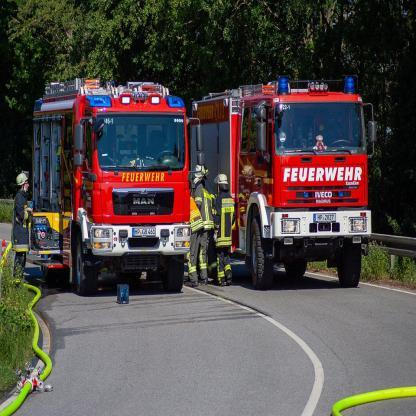fire-truck: (10, 58, 416, 367)
